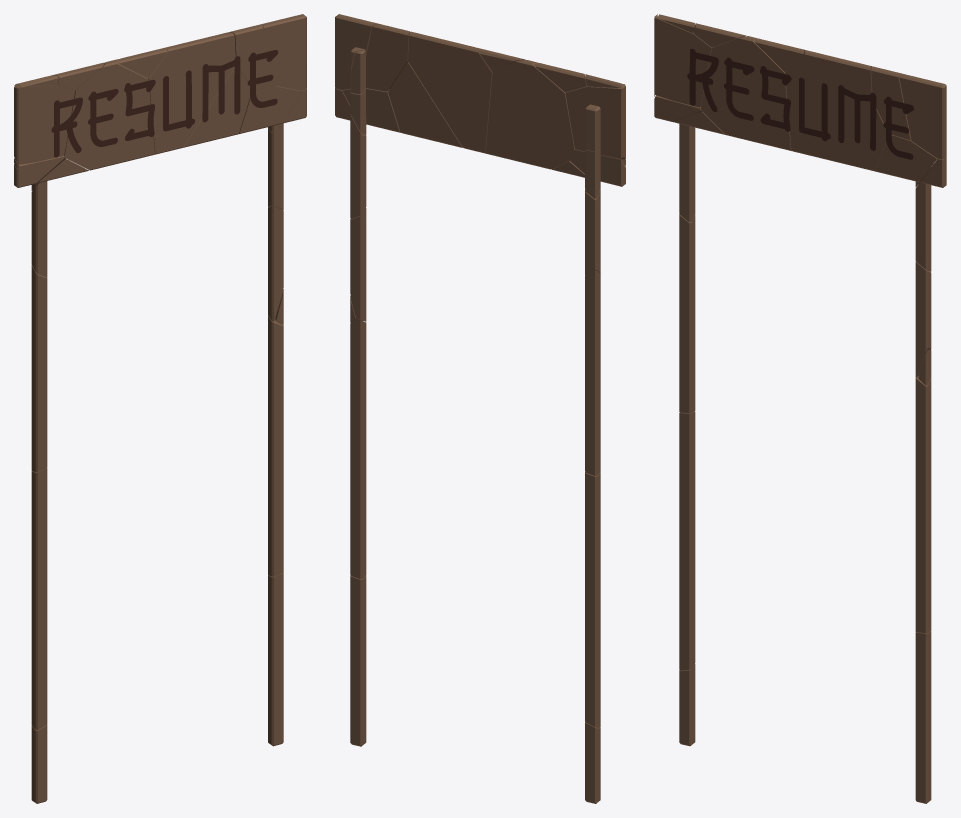
Rendered from bsign-resume.fbx.
The picture shows the model from 3 angles, left to right: view 1: azimuth 30°, elevation 25°; view 2: azimuth 150°, elevation 25°; view 3: azimuth 330°, elevation 25°; orthographic projection.
Visible parts, largest first — view 1: sign_resume01.007, sign_resume01.001_cell.020, sign_resume01.001_cell.028, sign_resume01.001_cell.010, sign_resume01.001_cell.025, sign_resume01.001_cell.009, sign_resume01.001_cell.015, sign_resume01.001_cell.016, sign_resume01.008, sign_resume01.001_cell.005, sign_resume01.001_cell.011, sign_resume01.001_cell.039 (+6 smaller); view 2: sign_resume01.001_cell.020, sign_resume01.007, sign_resume01.001_cell.025, sign_resume01.001_cell.010, sign_resume01.001_cell.028, sign_resume01.001_cell.009, sign_resume01.001_cell.005, sign_resume01.008, sign_resume01.001_cell.015, sign_resume01.001_cell.016, sign_resume01.001_cell.037, sign_resume01.001_cell.039 (+6 smaller); view 3: sign_resume01.007, sign_resume01.001_cell.020, sign_resume01.001_cell.010, sign_resume01.001_cell.028, sign_resume01.001_cell.025, sign_resume01.001_cell.009, sign_resume01.001_cell.016, sign_resume01.001_cell.015, sign_resume01.008, sign_resume01.001_cell.005, sign_resume01.001_cell.011, sign_resume01.001_cell.037 (+6 smaller).
Boxes of the visible parts, x1,y1,x2,y2 form: sign_resume01.007: (148, 32, 240, 154); sign_resume01.001_cell.020: (64, 59, 155, 170); sign_resume01.001_cell.028: (14, 85, 82, 164); sign_resume01.001_cell.010: (31, 468, 47, 730); sign_resume01.001_cell.025: (268, 315, 283, 576); sign_resume01.001_cell.009: (31, 264, 47, 472); sign_resume01.001_cell.015: (268, 572, 283, 746); sign_resume01.001_cell.016: (263, 14, 306, 90); sign_resume01.008: (230, 23, 278, 107); sign_resume01.001_cell.005: (181, 67, 250, 148); sign_resume01.001_cell.011: (31, 159, 88, 277); sign_resume01.001_cell.039: (239, 85, 301, 133); sign_resume01.001_cell.020: (485, 60, 576, 169); sign_resume01.007: (408, 31, 492, 153); sign_resume01.001_cell.025: (350, 319, 366, 579); sign_resume01.001_cell.010: (585, 472, 600, 727); sign_resume01.001_cell.028: (565, 83, 625, 159); sign_resume01.001_cell.009: (585, 271, 600, 475); sign_resume01.001_cell.005: (388, 62, 462, 147); sign_resume01.008: (350, 24, 409, 94); sign_resume01.001_cell.015: (350, 575, 366, 746); sign_resume01.001_cell.016: (335, 14, 380, 90); sign_resume01.001_cell.037: (335, 88, 366, 218); sign_resume01.001_cell.039: (342, 88, 400, 134); sign_resume01.007: (785, 49, 876, 157); sign_resume01.001_cell.020: (700, 36, 791, 150); sign_resume01.001_cell.010: (679, 412, 695, 670); sign_resume01.001_cell.028: (654, 16, 718, 111); sign_resume01.001_cell.025: (915, 376, 931, 632); sign_resume01.001_cell.009: (679, 212, 695, 413); sign_resume01.001_cell.016: (899, 75, 946, 159); sign_resume01.001_cell.015: (915, 631, 931, 803); sign_resume01.008: (871, 66, 913, 159); sign_resume01.001_cell.005: (819, 102, 886, 171); sign_resume01.001_cell.011: (674, 111, 726, 222); sign_resume01.001_cell.037: (915, 157, 946, 271).
Size of the model in its own units: 92.94 by 222 by 4.87.
